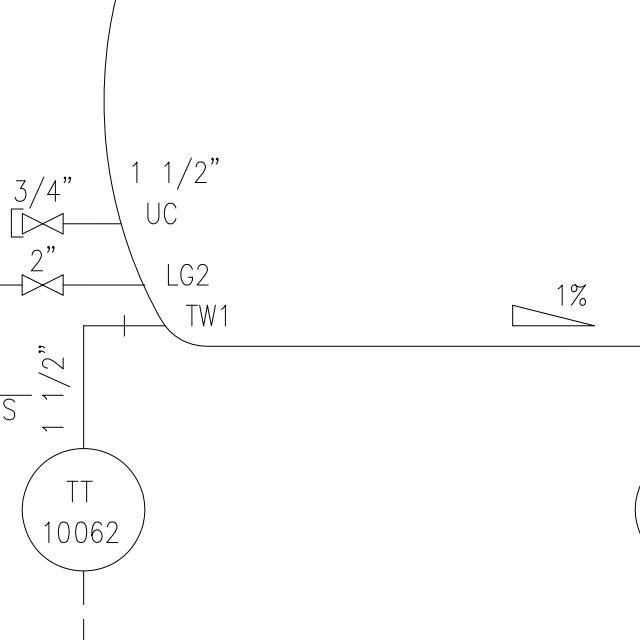EC: (6, 199, 88, 244)
GV: (18, 269, 67, 299), (19, 210, 68, 235)
